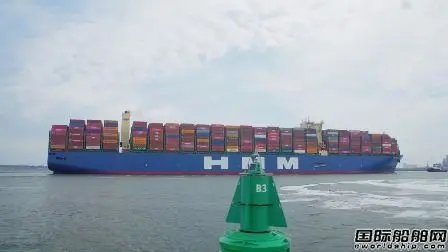Cargoship: (42, 109, 406, 175)
otherboat: (424, 160, 448, 174)
